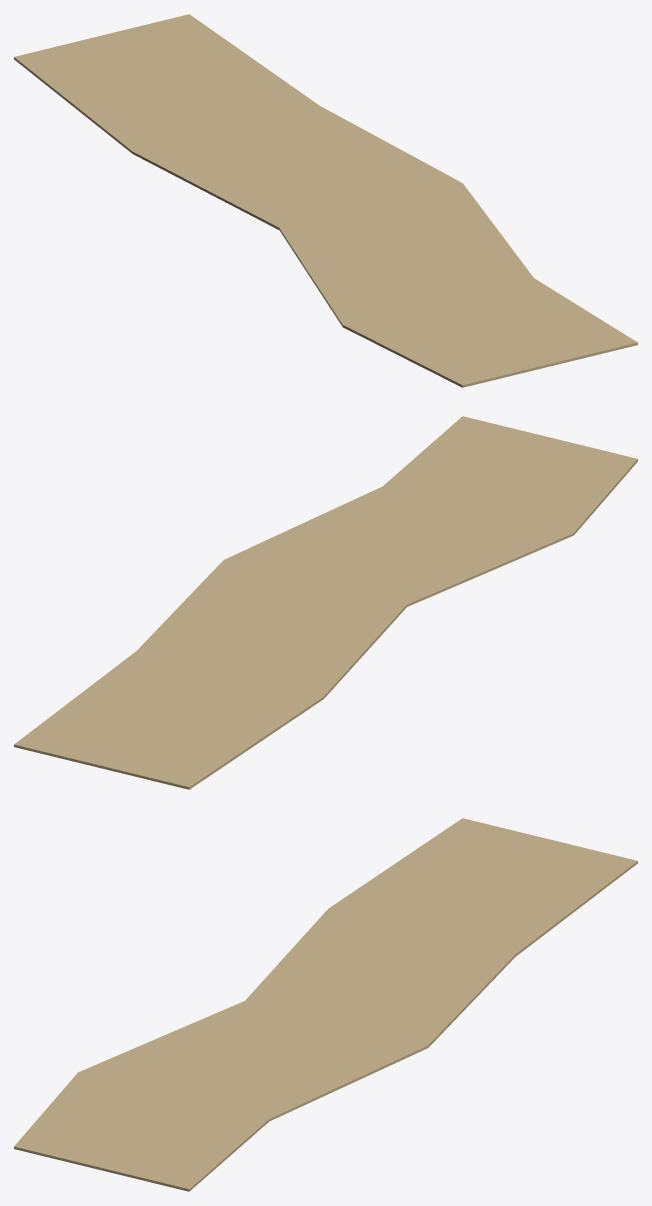
3 views of the same model, one above another, from view 1: azimuth 30°, elevation 25°; view 2: azimuth 150°, elevation 25°; view 3: azimuth 330°, elevation 25° (orthographic).
Parts seen in each view (by area): view 1: 可隐藏森林通道纸片.001; view 2: 可隐藏森林通道纸片.001; view 3: 可隐藏森林通道纸片.001.
Boxes of the visible parts, box(x1,y1,x2,y2) form: 可隐藏森林通道纸片.001: box(14, 14, 637, 387); 可隐藏森林通道纸片.001: box(14, 416, 637, 789); 可隐藏森林通道纸片.001: box(14, 818, 637, 1191).
Bounding box in the file's own units: 0.59 × 0.006 × 1.95.
